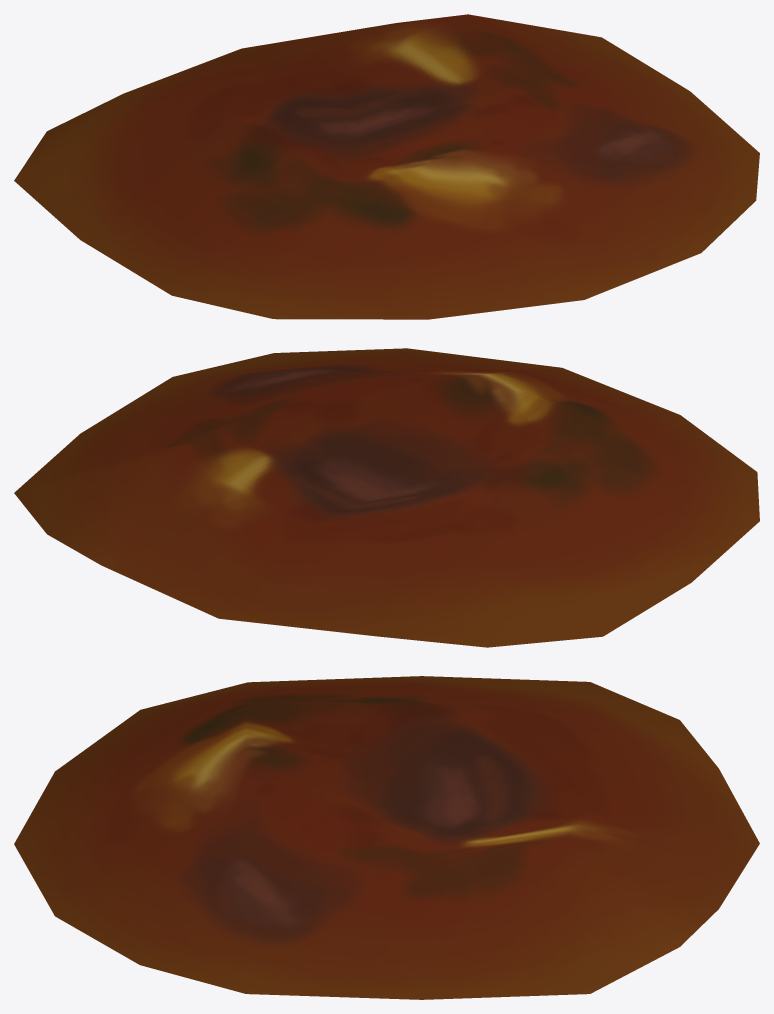
File: foodmound1.fbx
The picture shows the model from 3 angles, top to bottom: view 1: azimuth 30°, elevation 25°; view 2: azimuth 150°, elevation 25°; view 3: azimuth 270°, elevation 25°; orthographic projection. The views are drawn at different scales.
Visible parts, largest first — view 1: DinnerScene:GenericFoodMound1; view 2: DinnerScene:GenericFoodMound1; view 3: DinnerScene:GenericFoodMound1.
Part boxes in pixels (x1=…): DinnerScene:GenericFoodMound1: x1=14, y1=14, x2=759, y2=319; DinnerScene:GenericFoodMound1: x1=14, y1=348, x2=759, y2=647; DinnerScene:GenericFoodMound1: x1=14, y1=676, x2=759, y2=999.
Size of the model in its own units: 3.9 by 0.4524 by 3.79.
